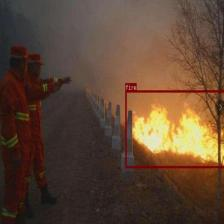fire: (125, 90, 224, 168)
